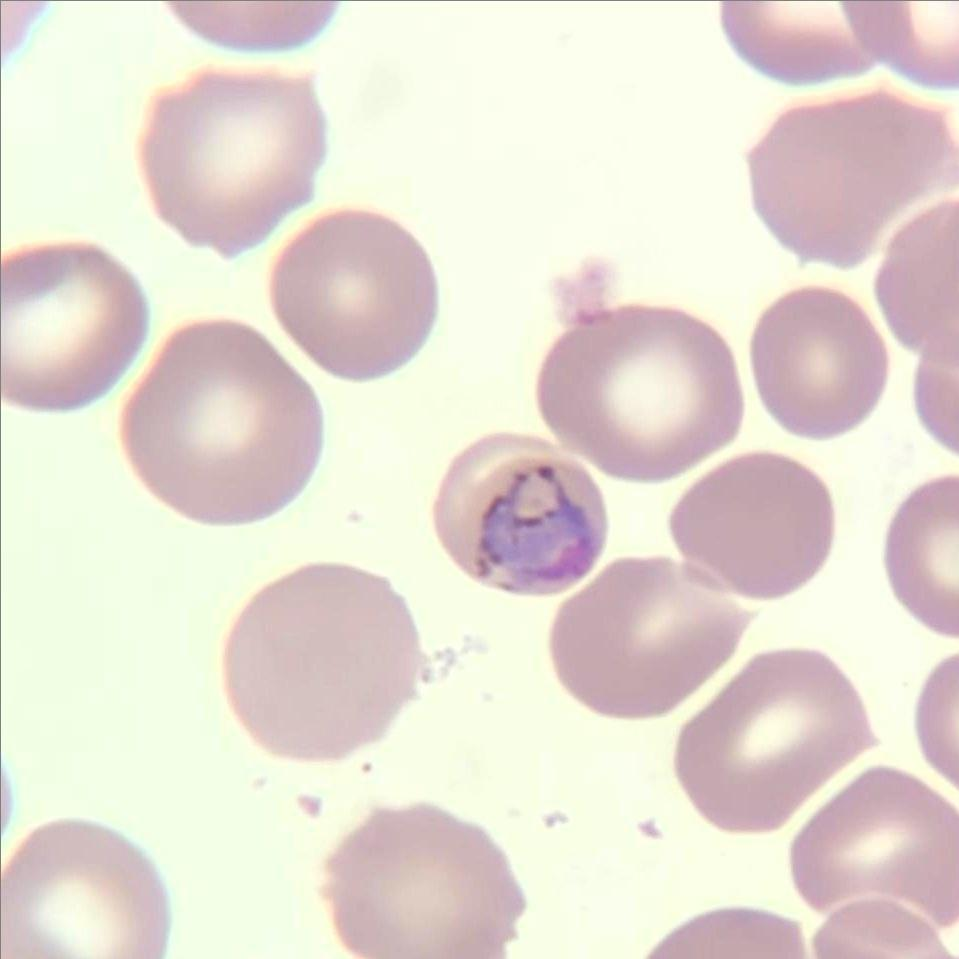Infected: (434, 430, 609, 593)
Uninfected: (122, 318, 326, 527), (222, 562, 422, 759), (674, 646, 870, 834), (138, 68, 329, 260), (748, 92, 956, 268), (536, 306, 745, 481), (548, 554, 750, 718), (322, 804, 527, 956), (786, 766, 959, 935), (270, 210, 438, 383), (668, 452, 836, 599), (0, 242, 146, 411), (0, 814, 170, 959), (750, 284, 889, 438)
